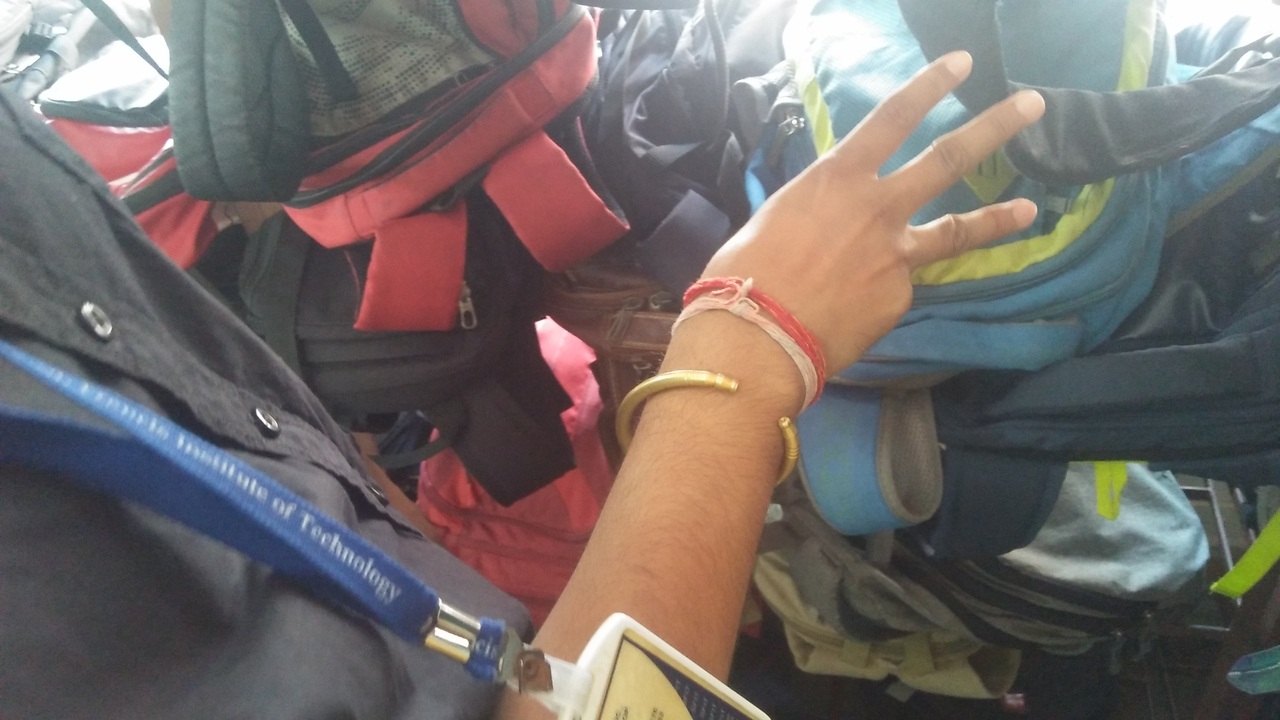fingertip: (918, 40, 978, 86), (1002, 187, 1050, 241), (1003, 84, 1055, 133)
